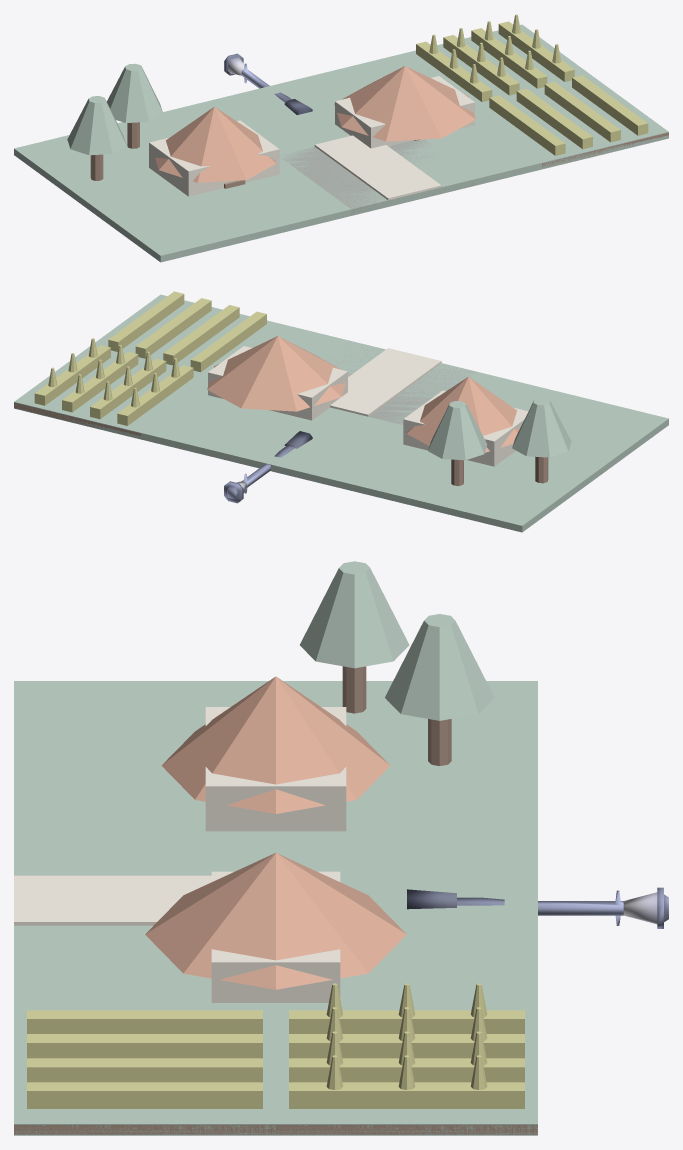
Rendered from farmstead.glb.
3 views of the same model, one above another, from view 1: azimuth 30°, elevation 25°; view 2: azimuth 150°, elevation 25°; view 3: azimuth 270°, elevation 25° (orthographic). The views are drawn at different scales.
Parts seen in each view (by area): view 1: ground-grass.009, cottage-long, farm-barn, ground-path, crop-wheat, crop-rows, ground-grass.013, ground-grass.010, orchard, ground-grass.011, ground-grass.012, ground-grass.015 (+3 smaller); view 2: ground-grass.010, ground-grass.012, cottage-long, ground-grass.014, crop-wheat, ground-grass.009, orchard, ground-path, crop-rows, farm-barn, ground-grass.016, ground-grass.015 (+3 smaller); view 3: crop-wheat, crop-rows, cottage-long, farm-barn, ground-grass.012, ground-grass.009, ground-grass.011, ground-grass.014, orchard, ground-grass.010, ground-grass.013, ground-path (+3 smaller).
Boxes of the visible parts, box(x1,y1,x2,y2) form: ground-grass.009: box(87, 182, 287, 262); cottage-long: box(334, 66, 475, 148); farm-barn: box(149, 106, 279, 196); ground-path: box(281, 135, 476, 215); crop-wheat: box(416, 14, 574, 102); crop-rows: box(489, 75, 668, 167); ground-grass.013: box(390, 114, 541, 200); ground-grass.010: box(14, 122, 168, 208); orchard: box(14, 63, 163, 207); ground-grass.011: box(235, 147, 414, 231); ground-grass.012: box(147, 86, 338, 154); ground-grass.015: box(475, 78, 668, 169); ground-grass.010: box(395, 452, 595, 532); ground-grass.012: box(268, 410, 443, 501); cottage-long: box(207, 336, 348, 420); ground-grass.014: box(141, 384, 340, 468); crop-wheat: box(14, 338, 193, 435); ground-grass.009: box(514, 387, 668, 478); orchard: box(396, 398, 595, 531); ground-path: box(328, 341, 477, 424); crop-rows: box(108, 291, 266, 372); farm-barn: box(403, 376, 528, 466); ground-grass.016: box(14, 348, 207, 439); ground-grass.015: box(87, 294, 287, 377); crop-wheat: box(276, 983, 537, 1134); crop-rows: box(14, 1010, 275, 1134); cottage-long: box(145, 853, 406, 1002); farm-barn: box(161, 676, 390, 831); ground-grass.012: box(276, 791, 537, 902); ground-grass.009: box(14, 681, 268, 791); ground-grass.011: box(14, 791, 275, 875); ground-grass.014: box(276, 902, 537, 1012); orchard: box(300, 561, 494, 765); ground-grass.010: box(283, 681, 537, 791); ground-grass.013: box(14, 925, 275, 1012); ground-path: box(14, 875, 211, 925).
Bounding box in the file's own units: 8 × 1.67 × 5.
Materials: 7 (1 with a texture image).
